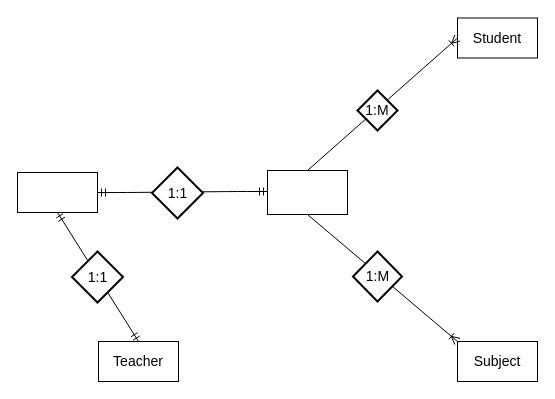
The diagram is 555 pixels wide and 399 high, and some of its shapes have lost their labels. The centre of each missing label's shape, as x and y in pixels:
"Class" goes at (57,192).
"Group" goes at (307,192).
